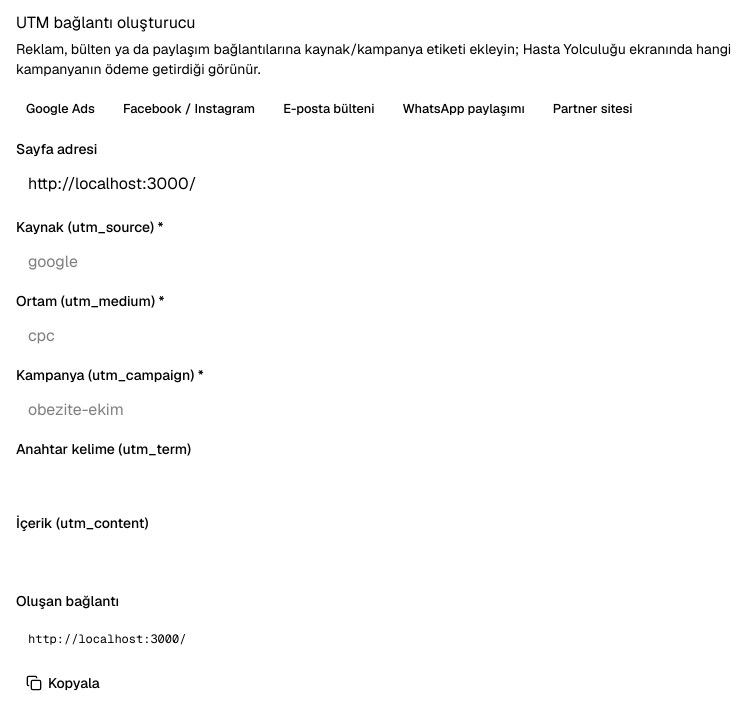
Test: UTM oluşturucu › değerleri normalize eder ve bağlantıyı üretir
This screenshot has width=753, height=707.
Step 1. Click the button "Google Ads" → (60, 109), box [16, 95, 105, 123]
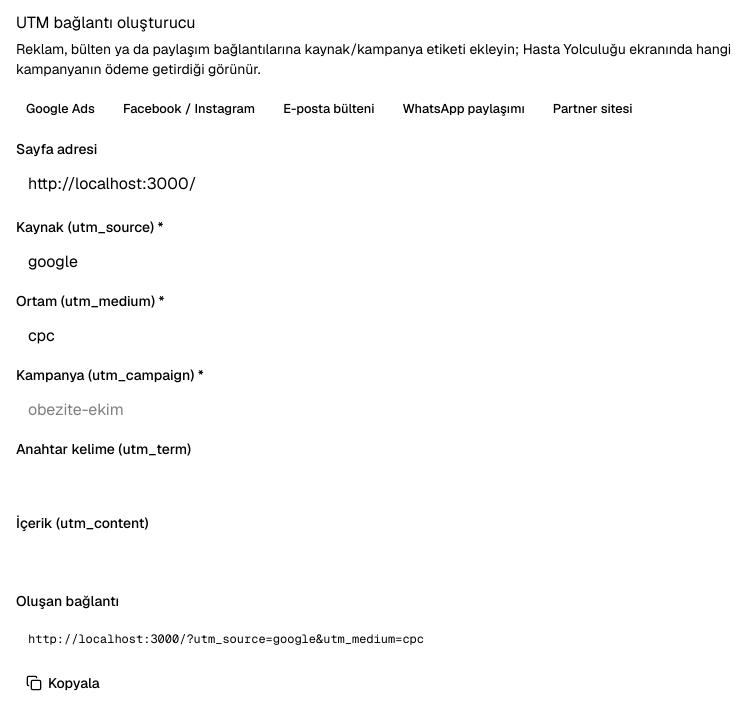
Step 2. Type "Ekim" into the field labelled "Kampanya (utm_campaign) *" → (376, 409), box [16, 391, 736, 427]
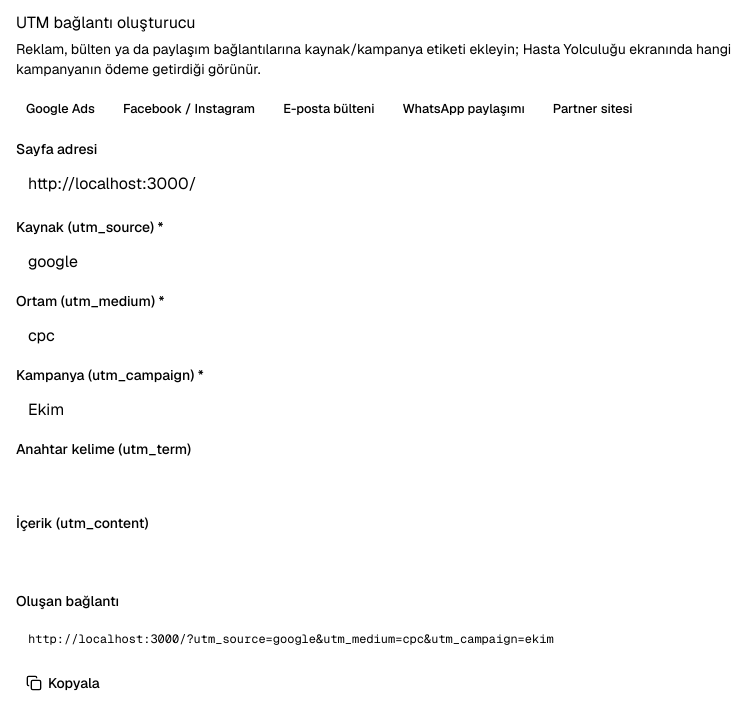
Expected: the button "Kopyala" is enabled, [16, 667, 110, 699]
Expected: the text with test id "utm-output" shows "utm_source=google&utm_medium=cpc&utm_campaign=ekim", [28, 631, 554, 647]
